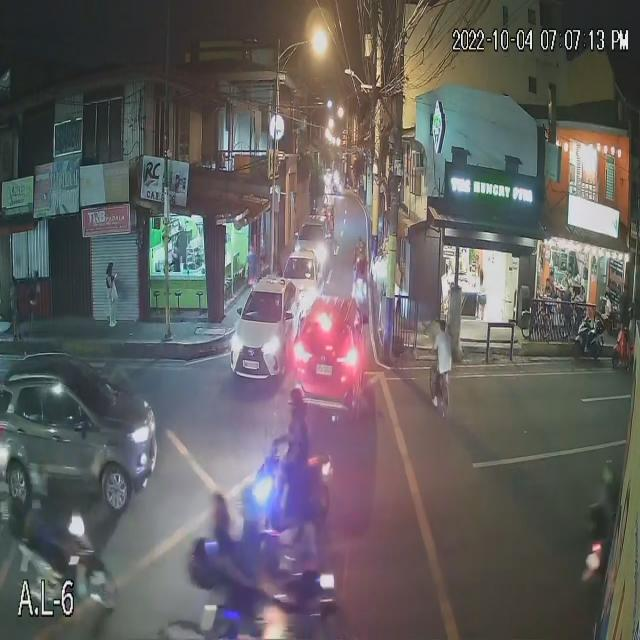helmet: (280, 385, 313, 425), (238, 487, 269, 524)
motorcycle: (0, 498, 119, 616), (195, 548, 347, 640), (238, 433, 336, 569), (574, 310, 612, 361)
rider: (240, 521, 298, 640), (267, 430, 324, 550), (211, 529, 248, 620)
